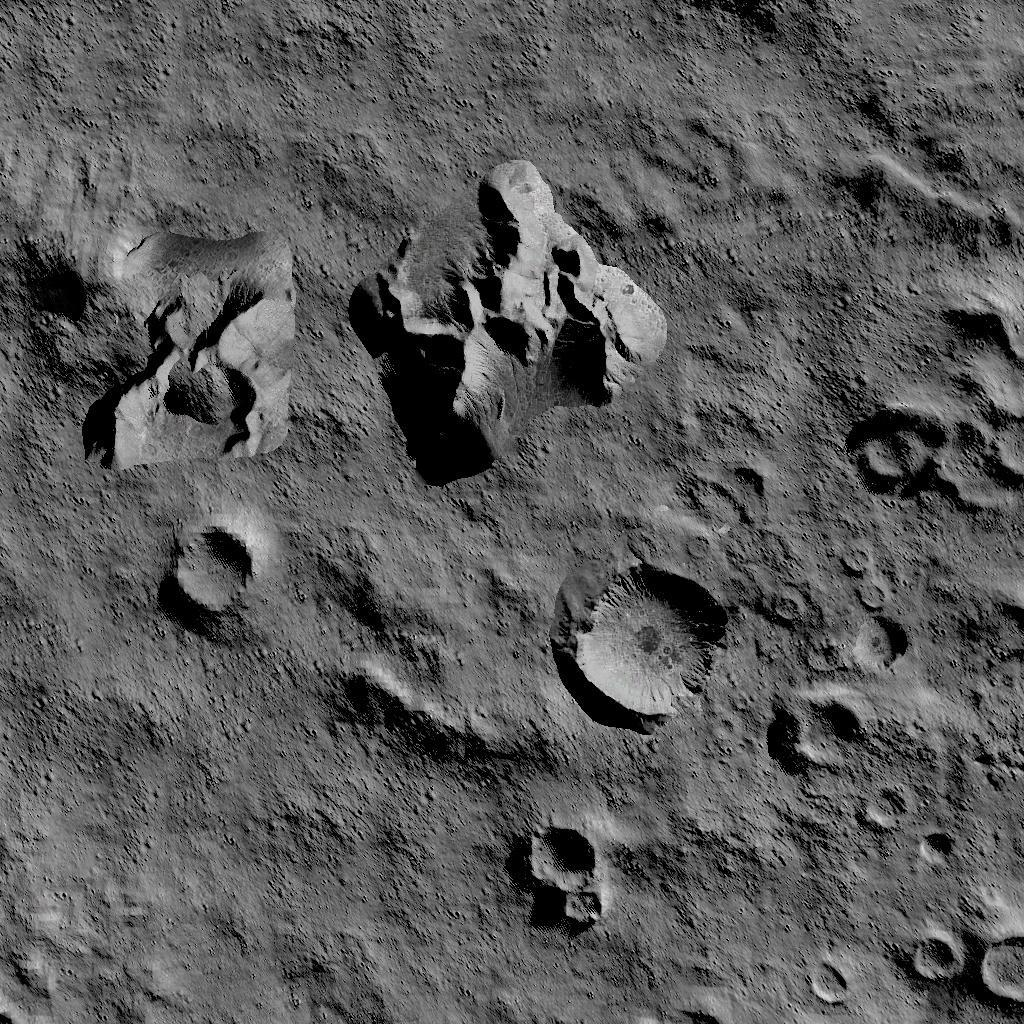Boulders: (349, 157, 669, 484), (36, 217, 304, 470)
Crater: (845, 310, 1024, 508), (554, 560, 726, 724), (166, 514, 262, 622), (901, 916, 1024, 1000), (772, 680, 874, 770), (530, 824, 616, 927), (966, 590, 1023, 664), (854, 611, 906, 670), (803, 952, 850, 1002), (849, 780, 904, 820), (913, 826, 949, 862)
Plan surface: (0, 653, 354, 1024), (0, 0, 338, 209), (689, 0, 818, 457), (348, 0, 678, 142), (365, 748, 517, 1024), (827, 0, 1024, 169), (0, 480, 154, 644)
